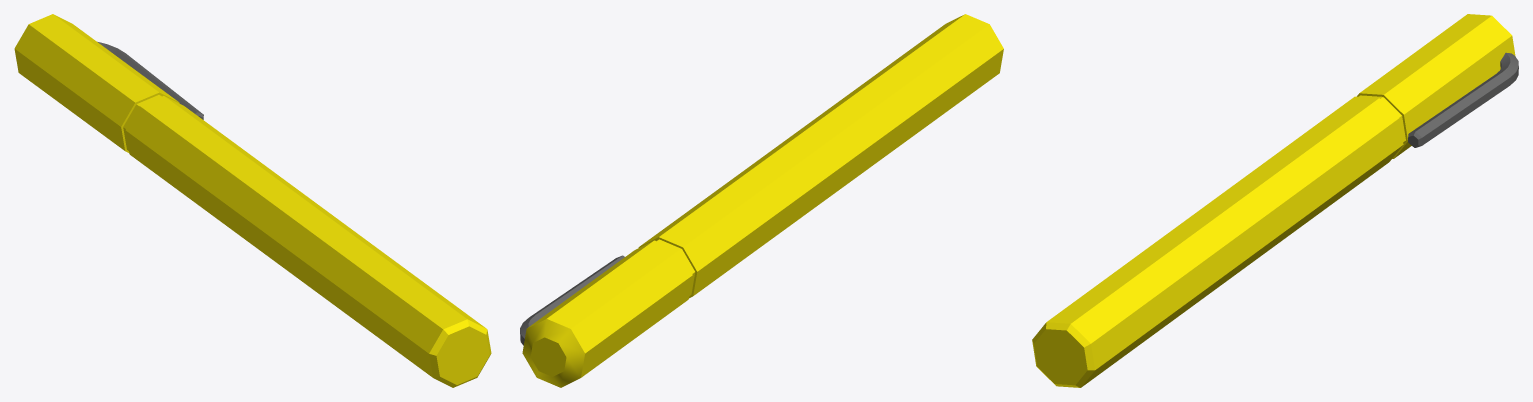
Rendered from Lapiz05.fbx.
3 views of the same model, side by side, from view 1: azimuth 30°, elevation 25°; view 2: azimuth 150°, elevation 25°; view 3: azimuth 330°, elevation 25° (orthographic).
Visible parts, largest first — view 1: Lapiz05; view 2: Lapiz05; view 3: Lapiz05.
Boxes of the visible parts, x1,y1,x2,y2 form: Lapiz05: (14, 14, 491, 387); Lapiz05: (520, 14, 1003, 387); Lapiz05: (1032, 14, 1518, 387).
Size of the model in its own units: 2.08 by 1.55 by 18.01.
